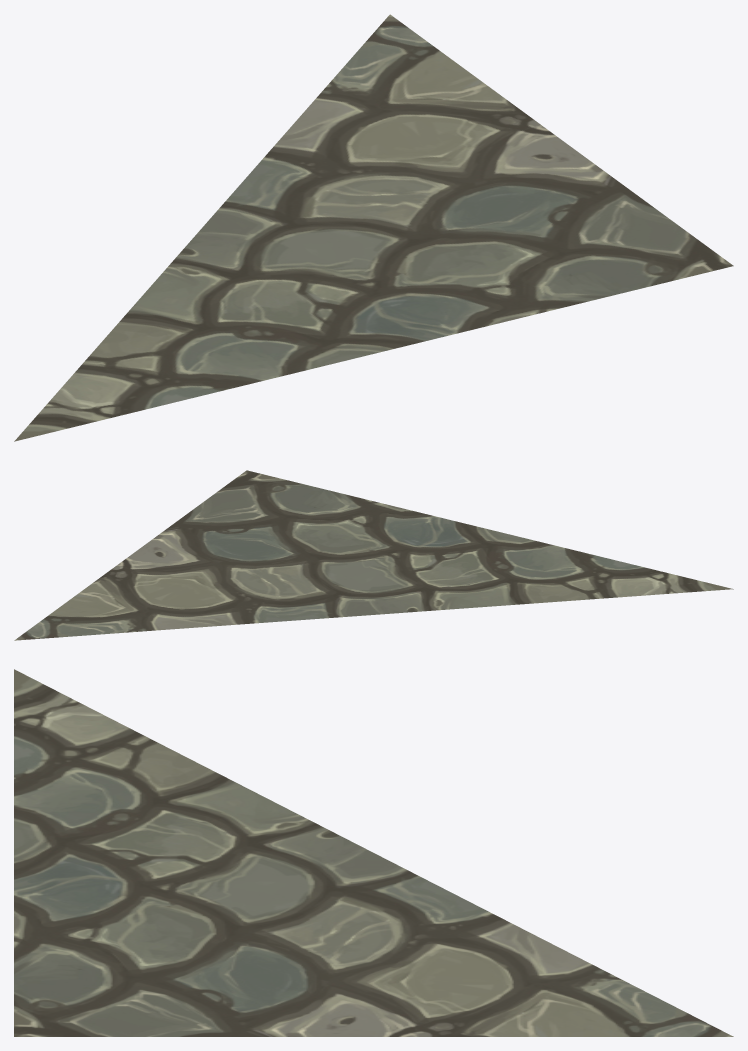
File: floor_longcurve3.fbx
3 renders of one model, top to bottom at view 1: azimuth 30°, elevation 25°; view 2: azimuth 150°, elevation 25°; view 3: azimuth 270°, elevation 25°, orthographic. The views are drawn at different scales.
Parts seen in each view (by area): view 1: round_tl_3; view 2: round_tl_3; view 3: round_tl_3.
Boxes of the visible parts, <box> form: round_tl_3: <box>14,14,733,441</box>; round_tl_3: <box>14,470,733,640</box>; round_tl_3: <box>14,669,733,1036</box>.
Size of the model in its own units: 2 by 4.44e-16 by 1.66.
